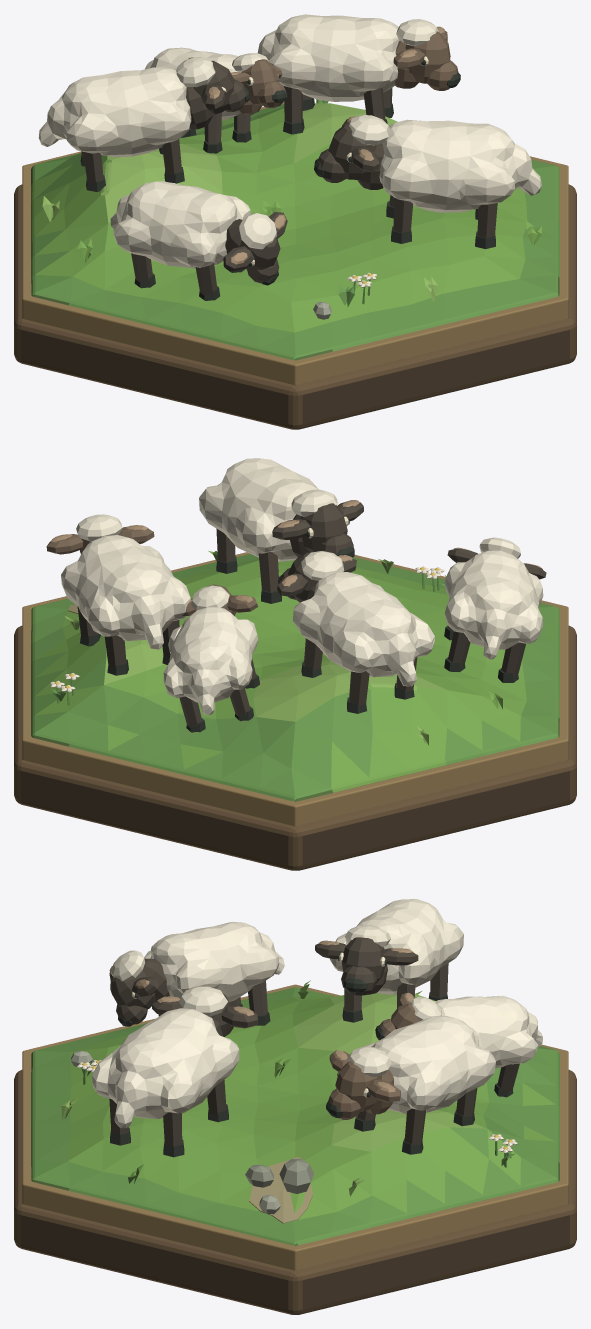
File: pasture.glb
3 views of the same model, one above another, from view 1: azimuth 30°, elevation 25°; view 2: azimuth 150°, elevation 25°; view 3: azimuth 270°, elevation 25° (orthographic).
Visible parts, largest first — view 1: Hex_Pasture_Terrain, Hex_Pasture_Base, Hex_Pasture_Sheep_04_Standing, Hex_Pasture_Rim, Hex_Pasture_Sheep_01_Alert, Hex_Pasture_Sheep_02_Looking_Aside, Hex_Pasture_Sheep_03_Grazing, Hex_Pasture_Sheep_05_Lamb, Hex_Pasture_Grass_Tufts; view 2: Hex_Pasture_Terrain, Hex_Pasture_Base, Hex_Pasture_Rim, Hex_Pasture_Sheep_01_Alert, Hex_Pasture_Sheep_02_Looking_Aside, Hex_Pasture_Sheep_04_Standing, Hex_Pasture_Sheep_03_Grazing, Hex_Pasture_Sheep_05_Lamb, Hex_Pasture_Meadow_Flowers, Hex_Pasture_Grass_Tufts; view 3: Hex_Pasture_Terrain, Hex_Pasture_Base, Hex_Pasture_Rim, Hex_Pasture_Sheep_04_Standing, Hex_Pasture_Sheep_02_Looking_Aside, Hex_Pasture_Sheep_03_Grazing, Hex_Pasture_Sheep_01_Alert, Hex_Pasture_Sheep_05_Lamb, Hex_Pasture_Stones, Hex_Pasture_Earth_Accent, Hex_Pasture_Grass_Tufts, Hex_Pasture_Meadow_Flowers.
Boxes of the visible parts, x1,y1,x2,y2 form: Hex_Pasture_Terrain: [31, 103, 559, 360]; Hex_Pasture_Base: [14, 184, 576, 429]; Hex_Pasture_Sheep_04_Standing: [314, 115, 541, 249]; Hex_Pasture_Rim: [22, 102, 568, 384]; Hex_Pasture_Sheep_01_Alert: [38, 57, 249, 191]; Hex_Pasture_Sheep_02_Looking_Aside: [257, 14, 460, 134]; Hex_Pasture_Sheep_03_Grazing: [110, 181, 287, 300]; Hex_Pasture_Sheep_05_Lamb: [144, 47, 287, 153]; Hex_Pasture_Grass_Tufts: [42, 99, 542, 306]; Hex_Pasture_Terrain: [31, 554, 559, 801]; Hex_Pasture_Base: [14, 625, 576, 870]; Hex_Pasture_Rim: [22, 552, 568, 826]; Hex_Pasture_Sheep_01_Alert: [277, 551, 434, 713]; Hex_Pasture_Sheep_02_Looking_Aside: [46, 514, 190, 675]; Hex_Pasture_Sheep_04_Standing: [199, 458, 363, 603]; Hex_Pasture_Sheep_03_Grazing: [444, 537, 546, 682]; Hex_Pasture_Sheep_05_Lamb: [163, 584, 259, 732]; Hex_Pasture_Meadow_Flowers: [50, 566, 444, 705]; Hex_Pasture_Grass_Tufts: [51, 551, 502, 745]; Hex_Pasture_Terrain: [31, 987, 559, 1245]; Hex_Pasture_Base: [14, 1070, 576, 1314]; Hex_Pasture_Rim: [22, 984, 568, 1270]; Hex_Pasture_Sheep_04_Standing: [91, 986, 258, 1157]; Hex_Pasture_Sheep_02_Looking_Aside: [326, 1016, 495, 1154]; Hex_Pasture_Sheep_03_Grazing: [109, 921, 284, 1026]; Hex_Pasture_Sheep_01_Alert: [315, 899, 463, 1022]; Hex_Pasture_Sheep_05_Lamb: [375, 992, 542, 1097]; Hex_Pasture_Stones: [71, 1051, 313, 1214]; Hex_Pasture_Earth_Accent: [249, 1156, 312, 1223]; Hex_Pasture_Grass_Tufts: [61, 980, 515, 1196]; Hex_Pasture_Meadow_Flowers: [77, 1060, 517, 1167].
Bounding box in the file's own units: 2.38 × 0.913 × 2.08.
